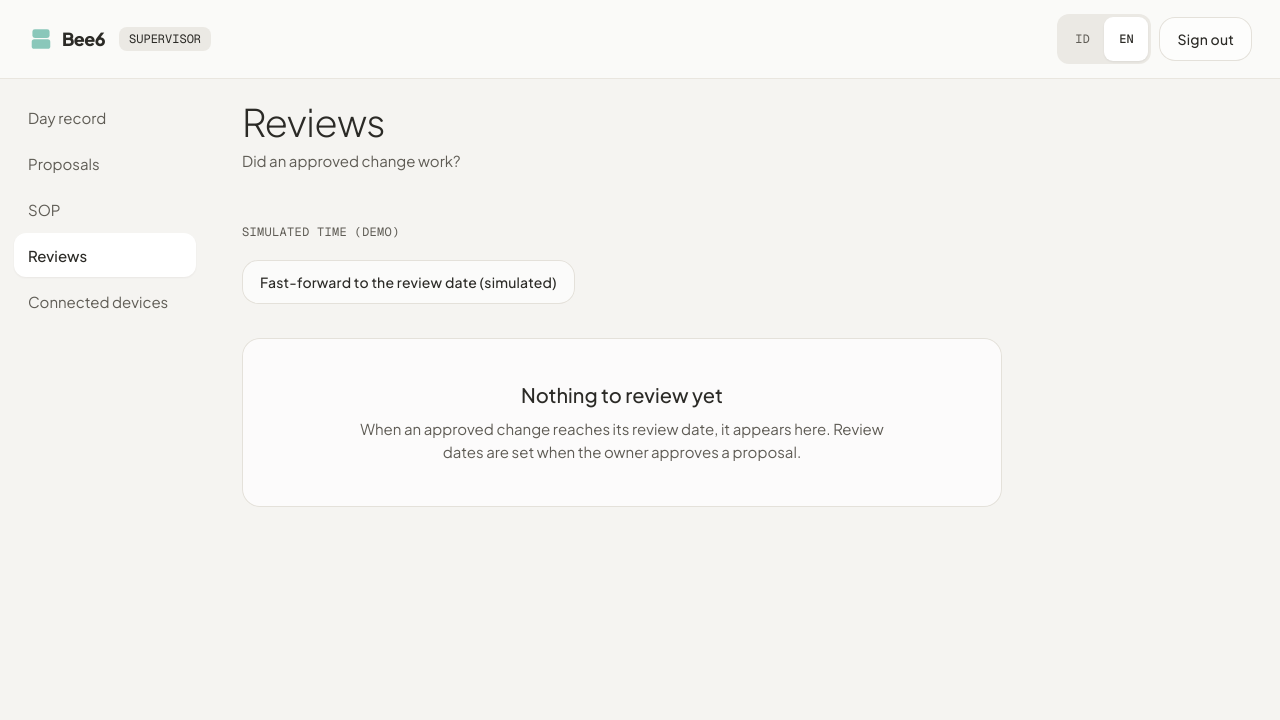
Test case: ReviewsApp: fast-forward (demo only) › NOTHING_TO_REVIEW shows the none banner and reloads the list
The image size is (1280, 720).
Click the button "Fast-forward to the review date (simulated)" at (408, 282), box [242, 260, 575, 304]
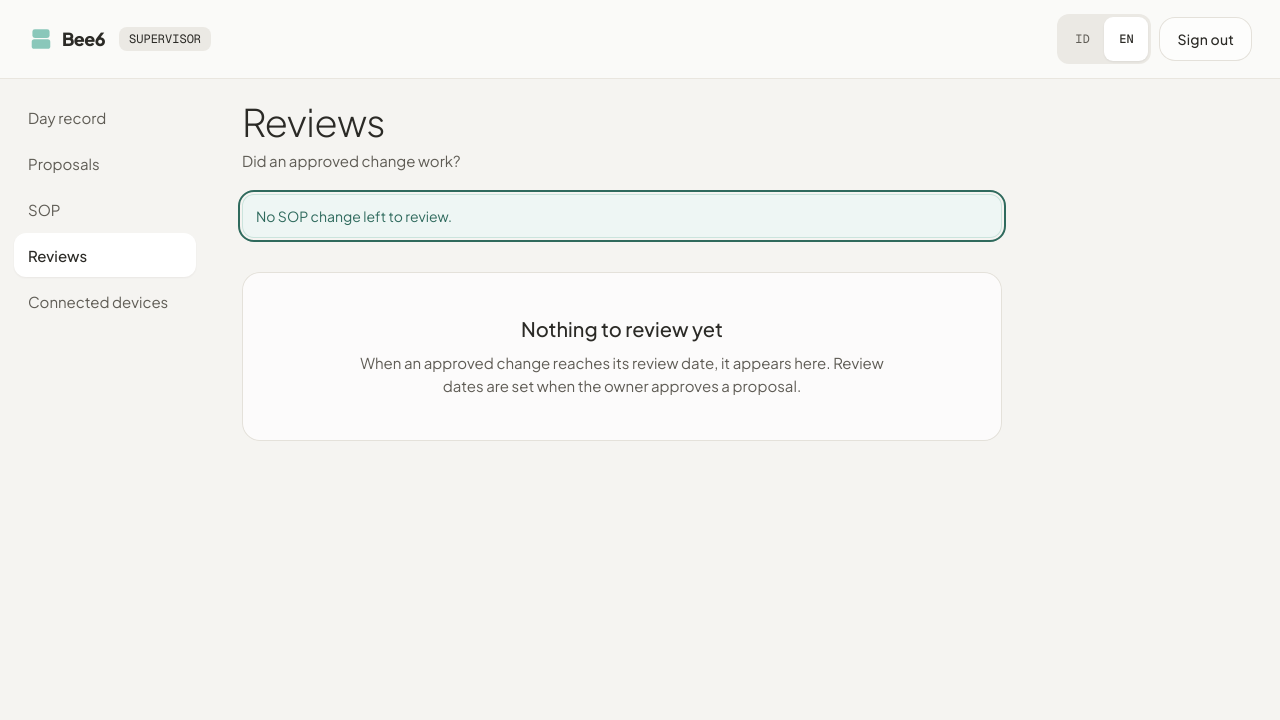
Now the text "No SOP change left to review." is shown, box [242, 194, 1002, 238]
Now the button "Fast-forward" is gone
